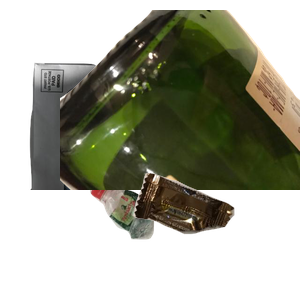glass: (60, 10, 300, 190)
paper: (27, 60, 223, 240)
plastic: (87, 178, 234, 300)
trash: (131, 171, 300, 300)
